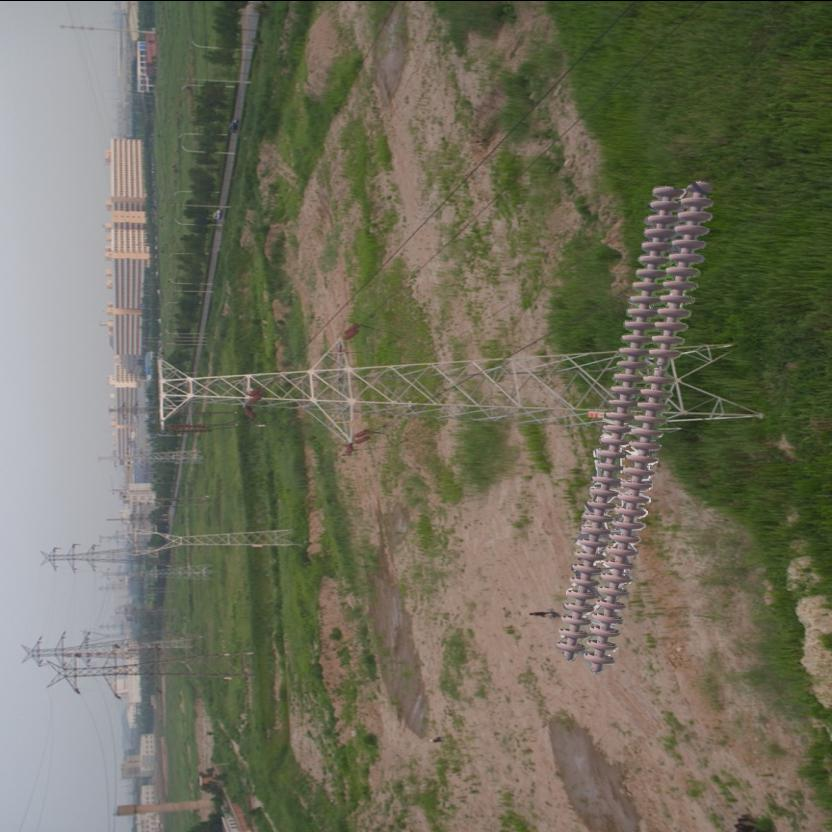defect: (638, 341, 680, 386)
